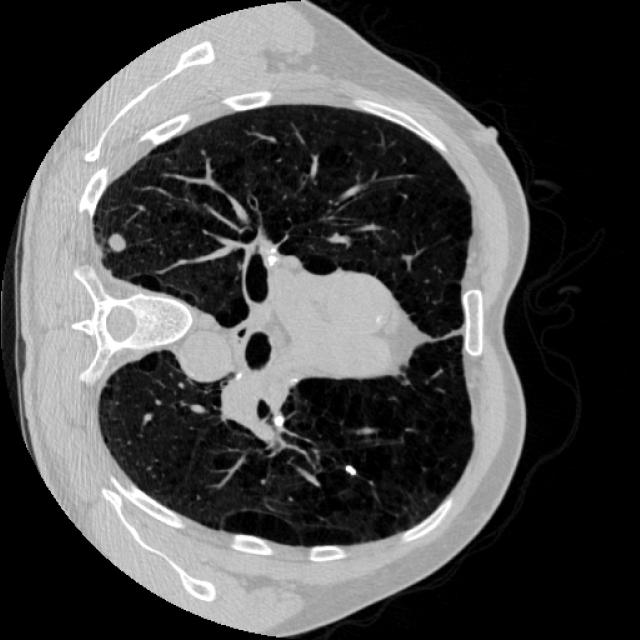nodule: (341, 459, 361, 479)
